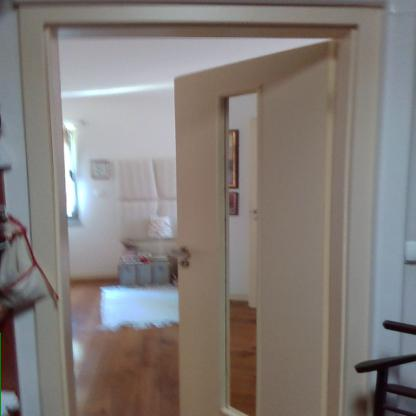open: (28, 8, 343, 415)
